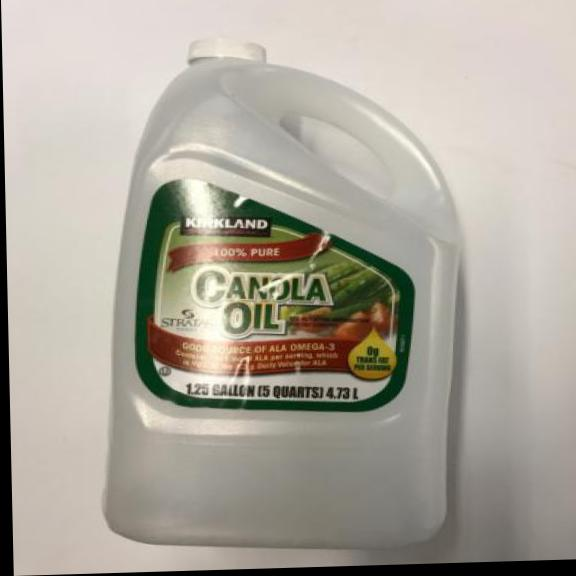Plastik: (88, 27, 475, 562)
